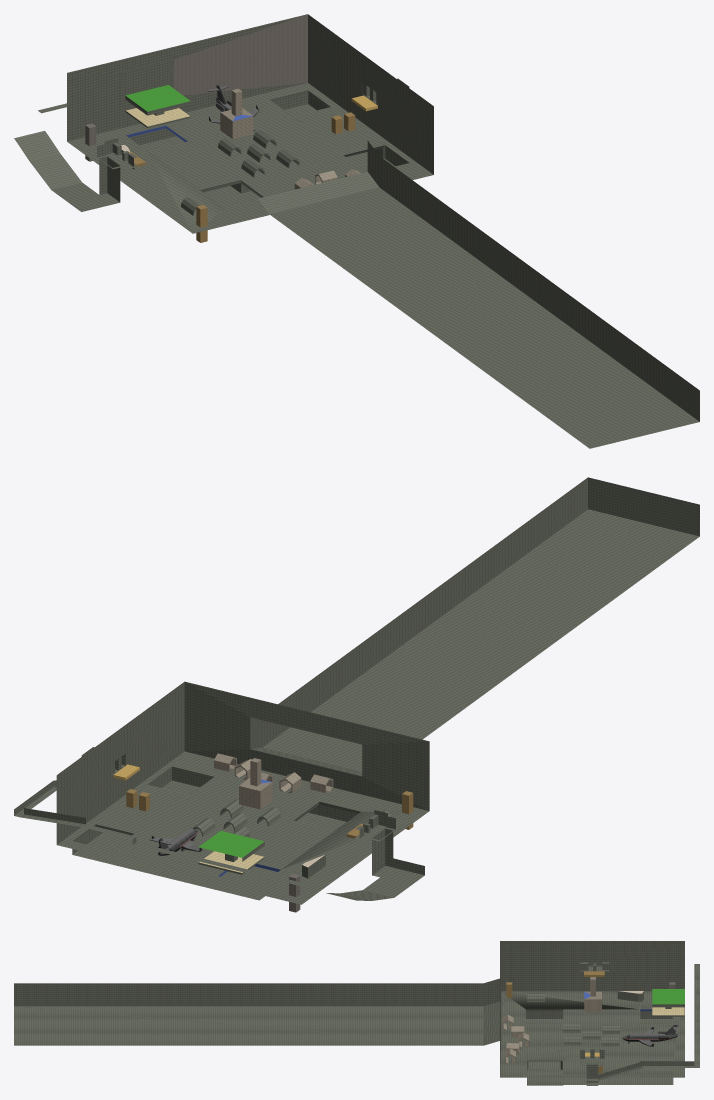
File: Proto02.glb
3 renders of one model, top to bottom at view 1: azimuth 30°, elevation 25°; view 2: azimuth 150°, elevation 25°; view 3: azimuth 270°, elevation 25°, orthographic. The views are drawn at different scales.
Visible parts, largest first — view 1: Cube_2, Cube__2_; view 2: Cube_2, Cube__2_, Jet02; view 3: Cube_2, Jet02, Cube__2_.
Boxes of the visible parts, x1,y1,x2,y2 form: Cube_2: (14, 14, 699, 448); Cube__2_: (220, 88, 253, 139); Cube_2: (14, 477, 699, 904); Cube__2_: (239, 758, 272, 809); Jet02: (150, 828, 202, 855); Cube_2: (14, 941, 699, 1085); Jet02: (622, 1023, 677, 1046); Cube__2_: (584, 977, 601, 1012).
Bounding box in the file's own units: 125 × 31.23 × 309.
10 materials, 10 textured.
